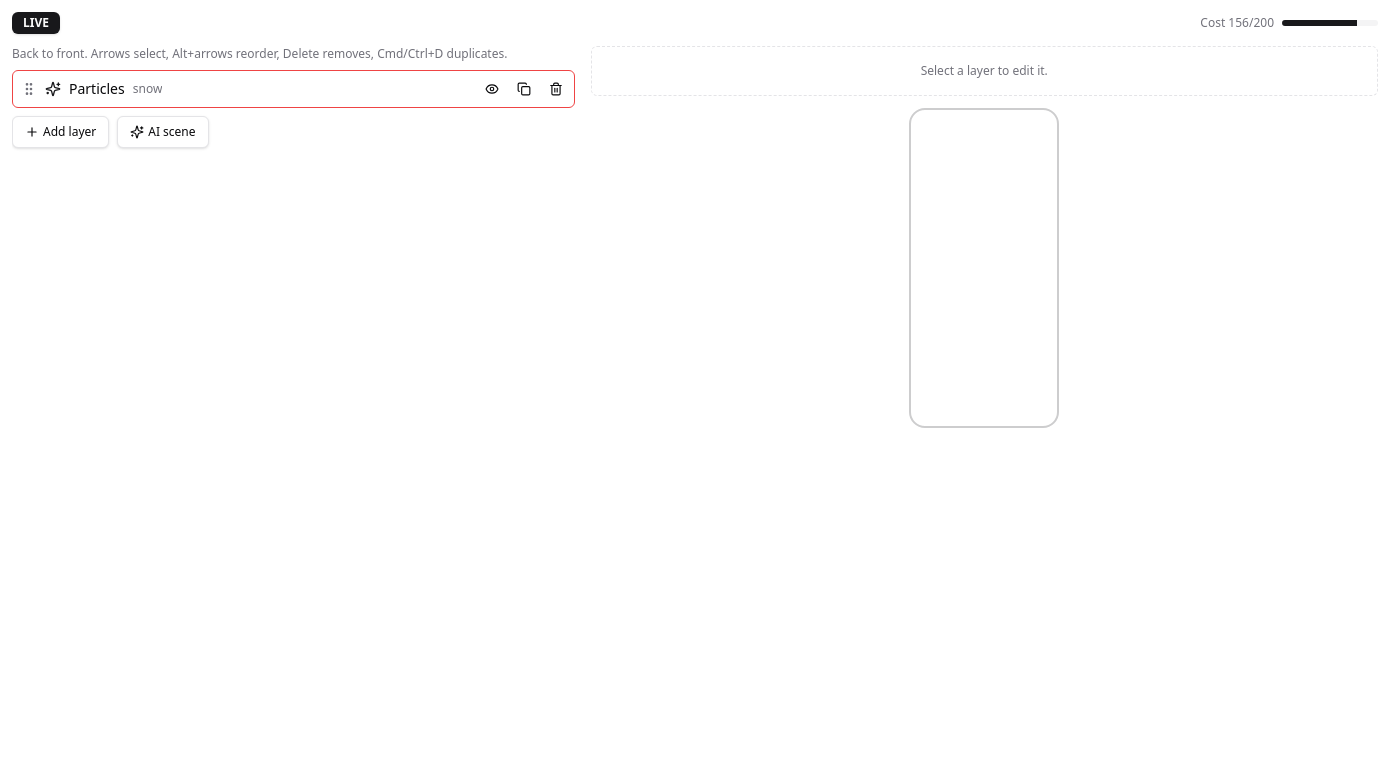
Scenario: LayersEditor › shows inline limit errors
Click the text "particles". click: (97, 89)
box: 69,79 -> 125,99
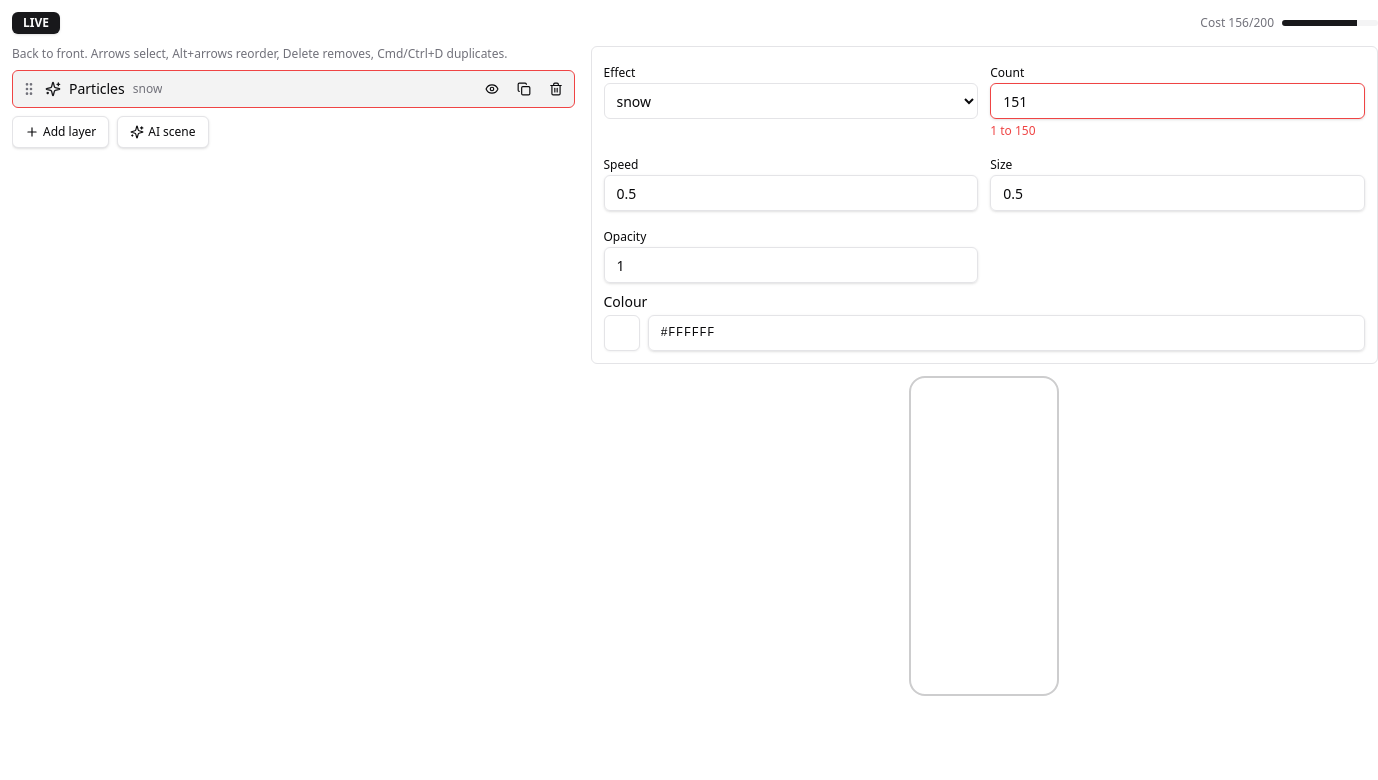
Expected: the text "1 to 150" is shown, 990,122 -> 1036,139
